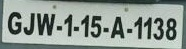character: (36, 12, 55, 36), (7, 10, 22, 35), (110, 15, 124, 39), (22, 11, 35, 36), (90, 15, 102, 39), (153, 16, 165, 40), (165, 18, 177, 41), (63, 13, 73, 37), (80, 14, 90, 38), (134, 15, 143, 40), (143, 17, 153, 39)
